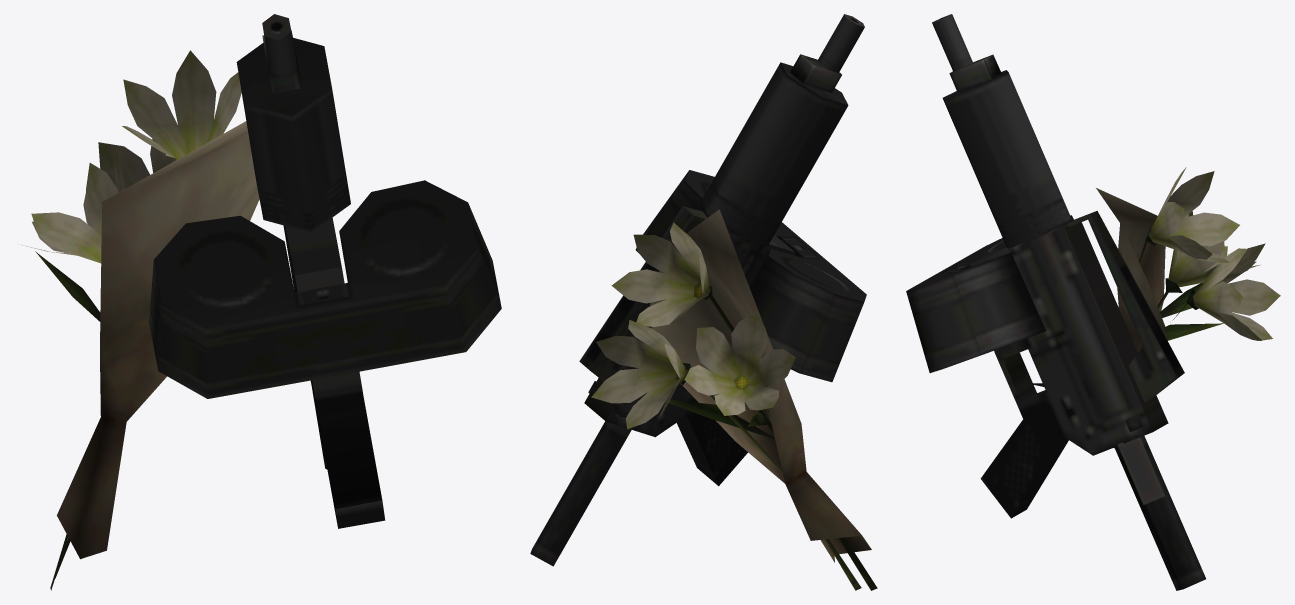
File: mgs3.ico.obj
The picture shows the model from 3 angles, left to right: view 1: azimuth 30°, elevation 25°; view 2: azimuth 150°, elevation 25°; view 3: azimuth 270°, elevation 25°; orthographic projection. The views are drawn at different scales.
Size of the model in its own units: 2.81 by 4.48 by 3.09.
Materials: 1 (1 with a texture image).
